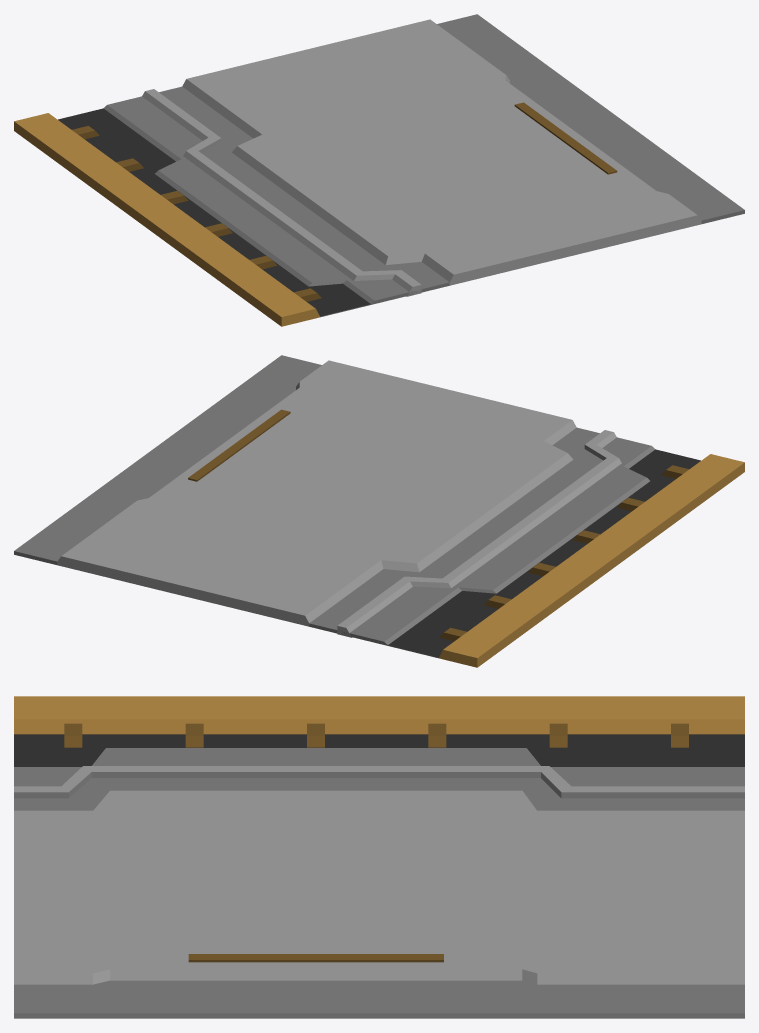
Rendered from FloorTile_Side.glb.
The picture shows the model from 3 angles, top to bottom: view 1: azimuth 30°, elevation 25°; view 2: azimuth 150°, elevation 25°; view 3: azimuth 270°, elevation 25°; orthographic projection. The views are drawn at different scales.
Visible parts, largest first — view 1: FloorTile_Side; view 2: FloorTile_Side; view 3: FloorTile_Side.
Part boxes in pixels (x1,y1,x2,y2): FloorTile_Side: (14, 14, 744, 326); FloorTile_Side: (14, 355, 744, 667); FloorTile_Side: (14, 696, 744, 1018).
Size of the model in its own units: 0.68 by 0.0233 by 0.68.
